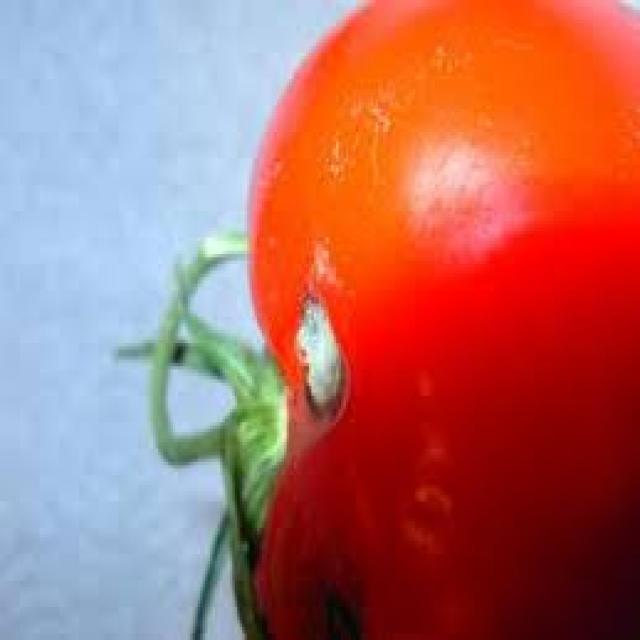organic waste: (113, 0, 638, 637)
